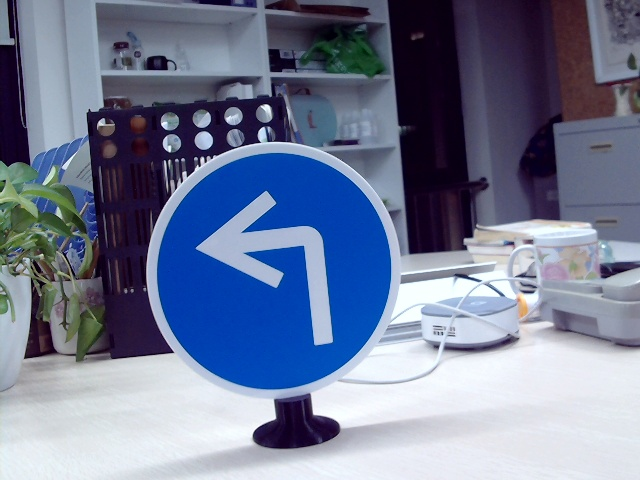turn_left: (191, 185, 355, 353)
